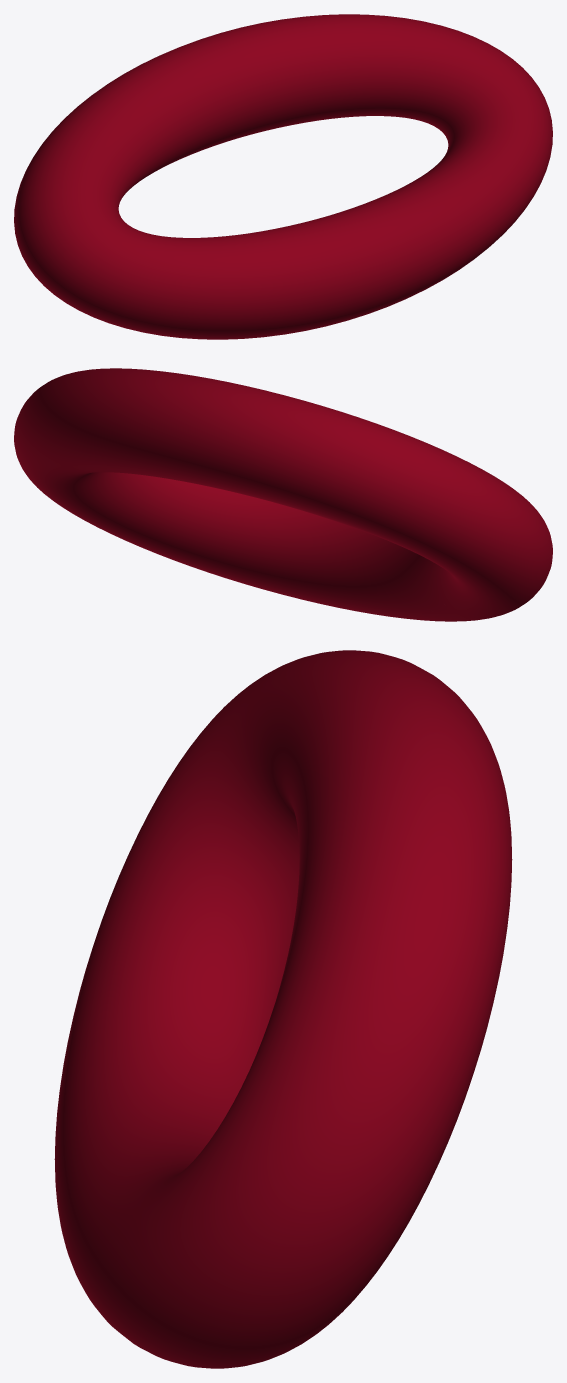
The model's file is Donut_Red.glb.
3 views of the same model, one above another, from view 1: azimuth 30°, elevation 25°; view 2: azimuth 150°, elevation 25°; view 3: azimuth 270°, elevation 25° (orthographic). The views are drawn at different scales.
Visible parts, largest first — view 1: mesh_id27; view 2: mesh_id27; view 3: mesh_id27.
Boxes of the visible parts, x1,y1,x2,y2 form: mesh_id27: [14, 14, 552, 339]; mesh_id27: [14, 368, 552, 621]; mesh_id27: [54, 650, 512, 1368].
Size of the model in its own units: 0.3618 by 0.1636 by 0.1373.
1 material, 1 textured.
